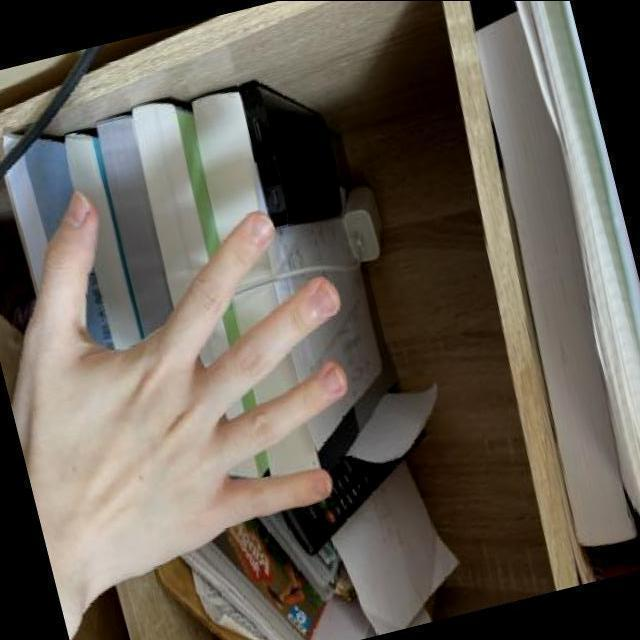hand: (8, 187, 352, 566)
